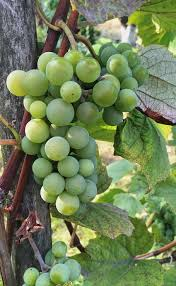grapes: (13, 48, 138, 222)
